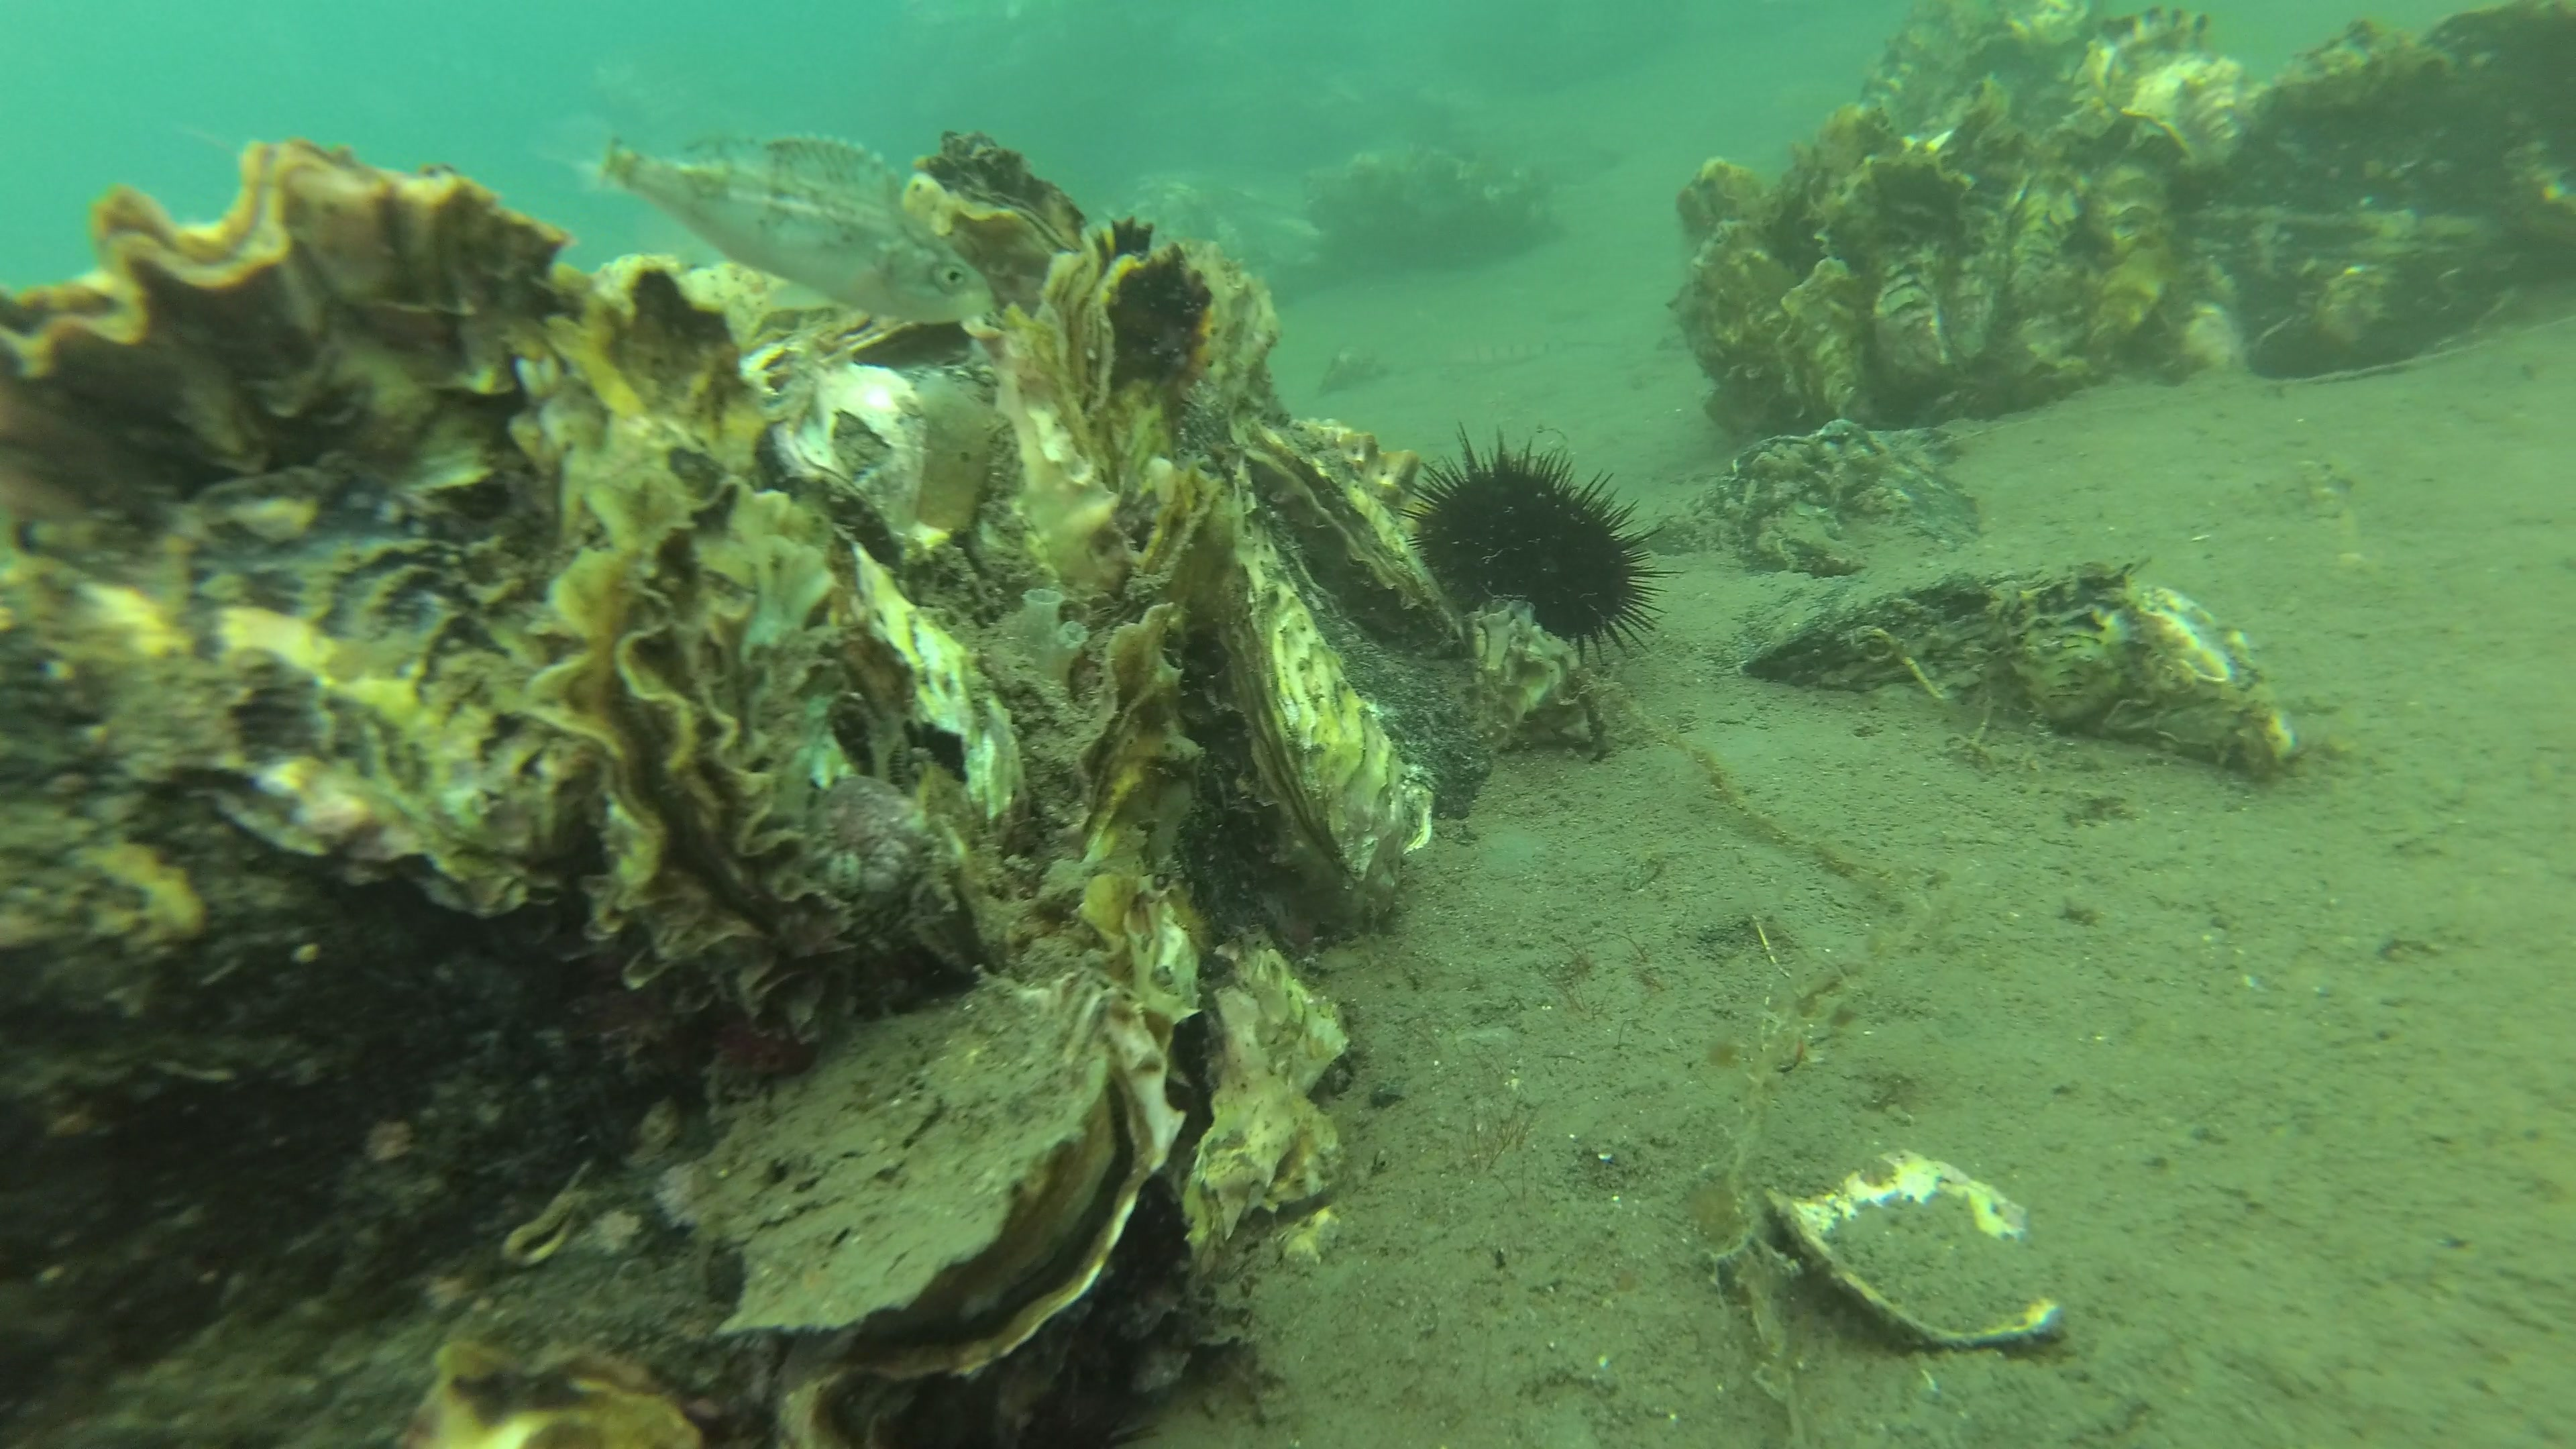echinus: (1392, 421, 1688, 672)
